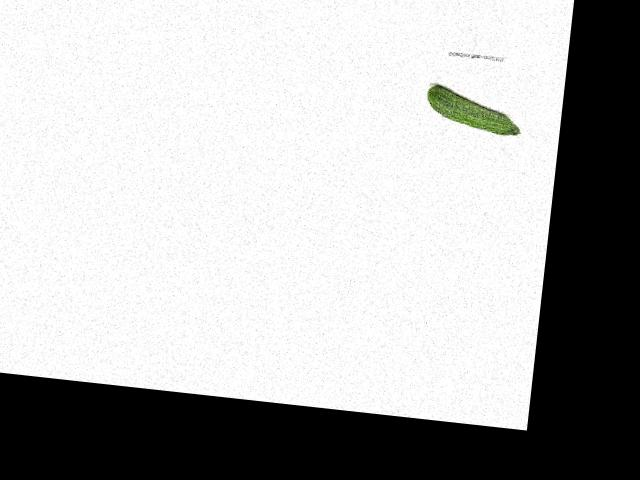cucumber: (424, 84, 525, 136)
